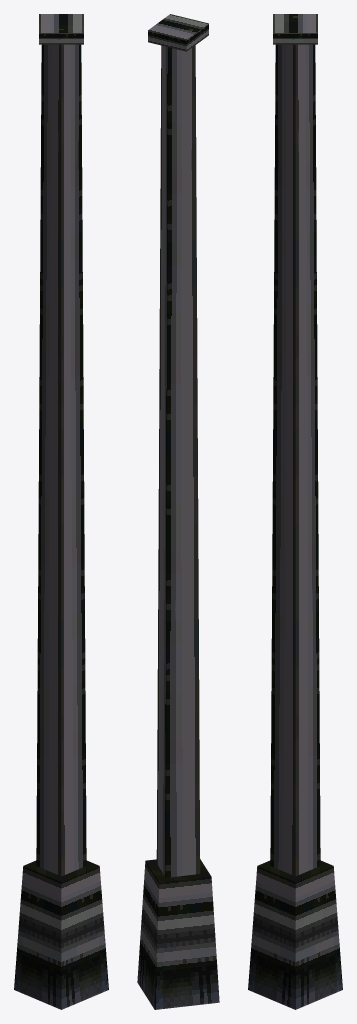
File: prop_flag_pole.glb
The picture shows the model from 3 angles, left to right: view 1: azimuth 90°, elevation 25°; view 2: azimuth 150°, elevation 25°; view 3: azimuth 270°, elevation 25°; orthographic projection.
Parts seen in each view (by area): view 1: Flag_Pole; view 2: Flag_Pole; view 3: Flag_Pole.
Part boxes in pixels (x1,y1,x2,y2): Flag_Pole: (14, 14, 108, 1009); Flag_Pole: (137, 14, 219, 1009); Flag_Pole: (248, 14, 342, 1009).
Size of the model in its own units: 0.3884 by 4.36 by 0.3883.
Materials: 1 (1 with a texture image).
